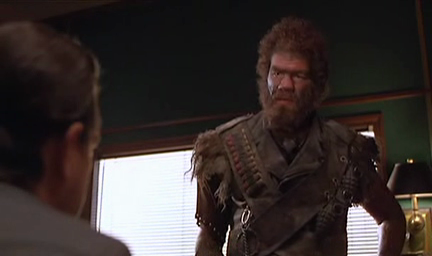face: (266, 59, 312, 121)
ms: (1, 1, 432, 256)
ots: (1, 21, 131, 256)
person: (191, 15, 408, 255)
